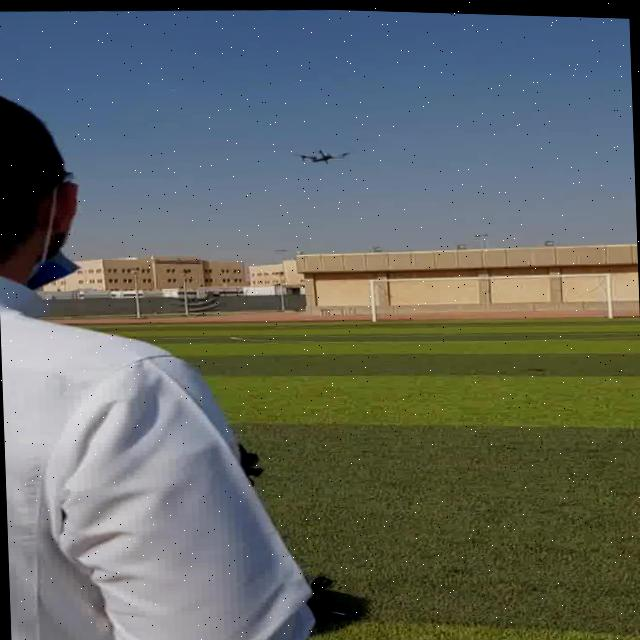drone: (282, 142, 354, 166)
